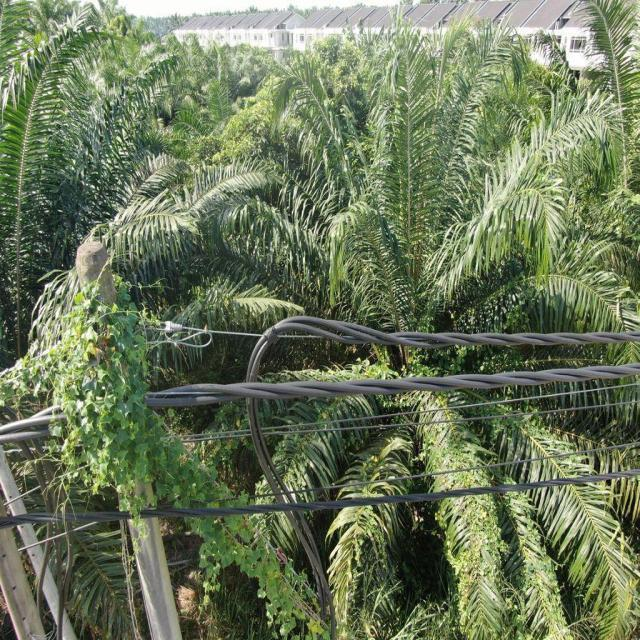critical vegetation: (0, 258, 318, 632)
